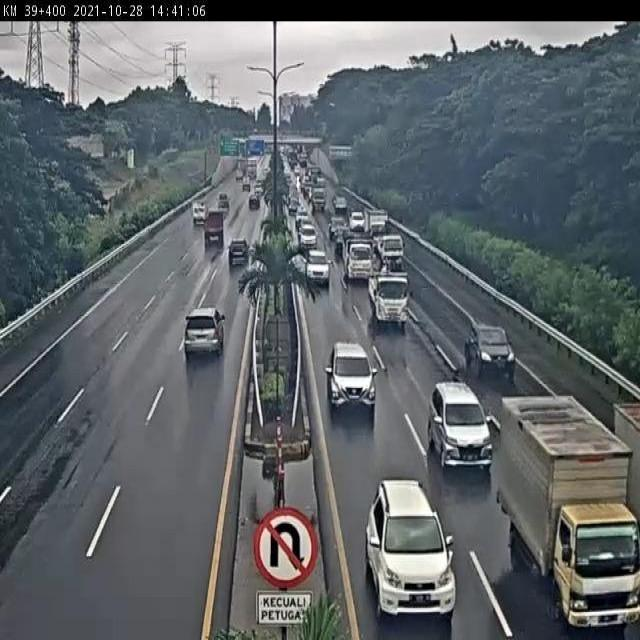car: (363, 480, 457, 624), (429, 382, 494, 474), (327, 341, 377, 415), (466, 322, 516, 382), (304, 248, 331, 284), (227, 235, 251, 265)
mid truck: (183, 306, 227, 358)
truck-m-: (501, 397, 640, 632), (365, 270, 409, 326), (342, 239, 375, 285)
